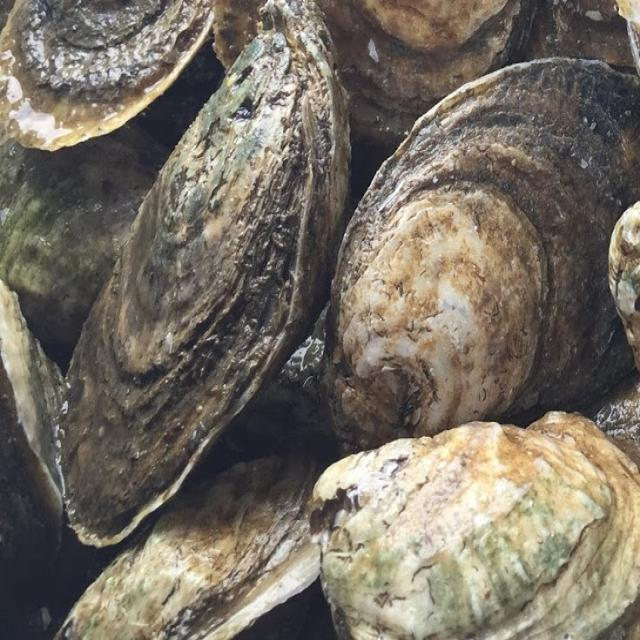Oyster-Closed: (55, 0, 352, 548), (55, 453, 331, 640)
Oyster-Indeterminate: (322, 57, 640, 460), (312, 410, 640, 640), (0, 121, 171, 355), (308, 0, 537, 148), (0, 0, 219, 151), (187, 302, 339, 490), (0, 281, 65, 624), (519, 0, 636, 66), (607, 202, 640, 377)
